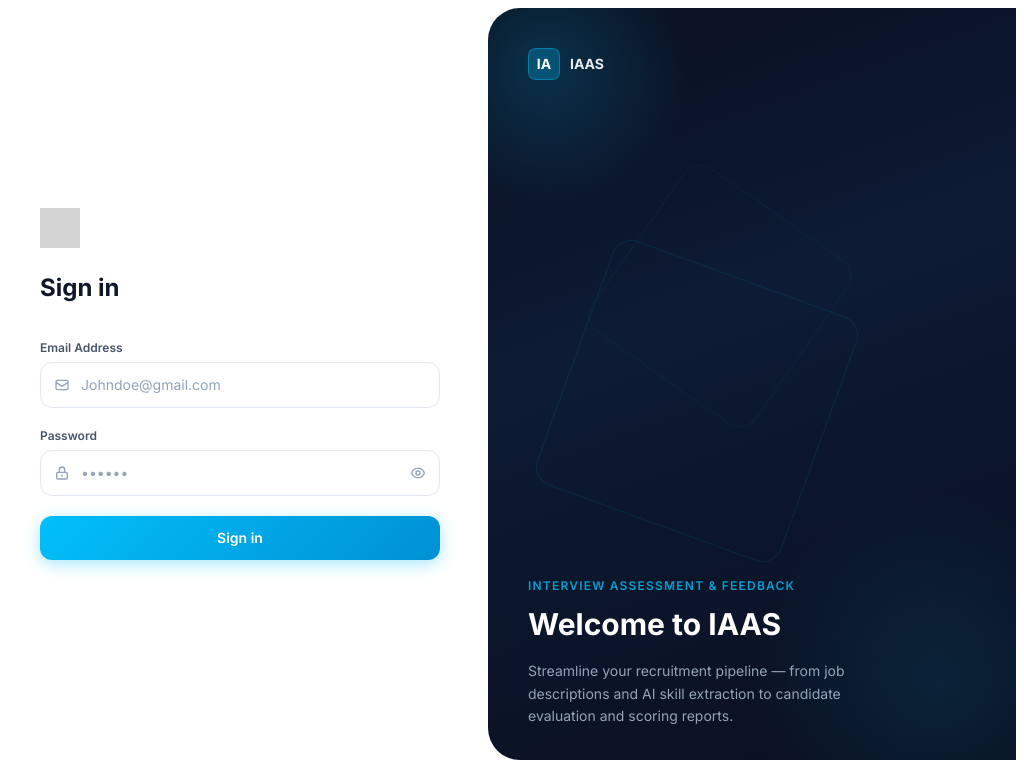
Test case: Login page — validation › shows error when password is empty on submit
Step 1. Type "user@test.com" into the field labelled "Email Address" → point(240, 385), box top-left (40, 362), bottom-right (440, 408)
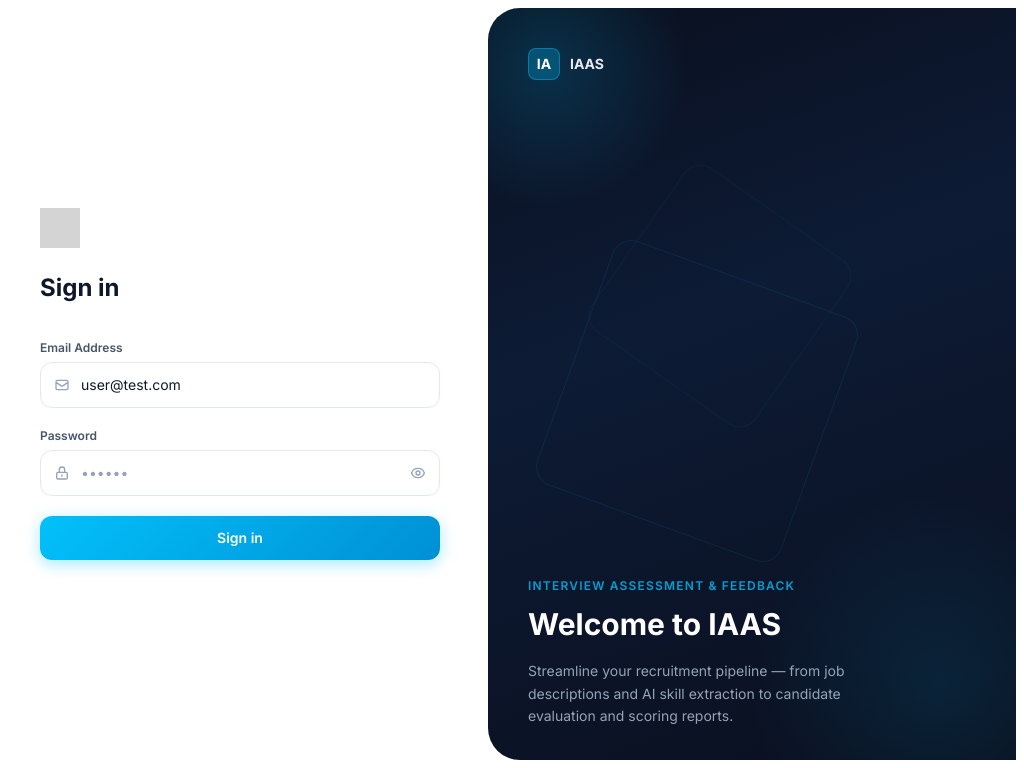
Step 2. Click the button "Sign in" → point(240, 538), box top-left (40, 516), bottom-right (440, 560)
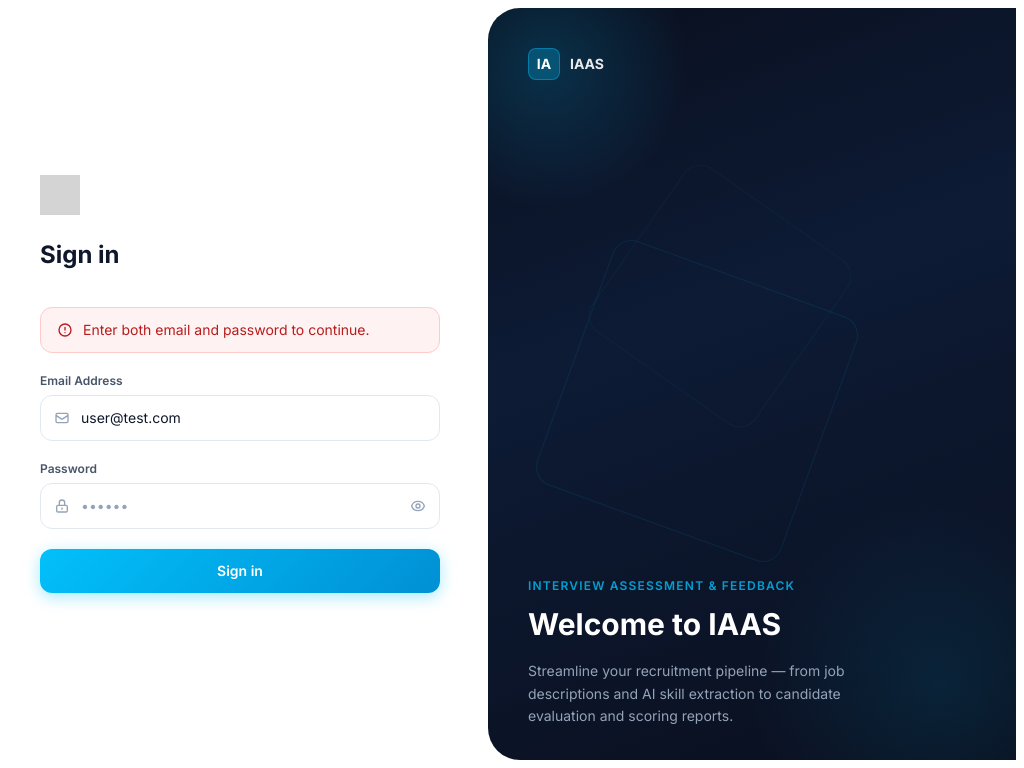
expect the text "Enter both email and password to continue." is shown: met, box top-left (40, 307), bottom-right (440, 353)
